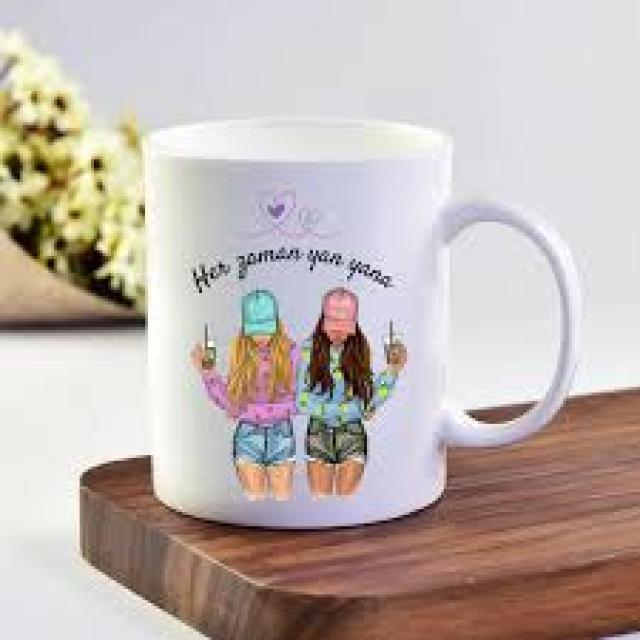taza: (144, 117, 580, 529)
